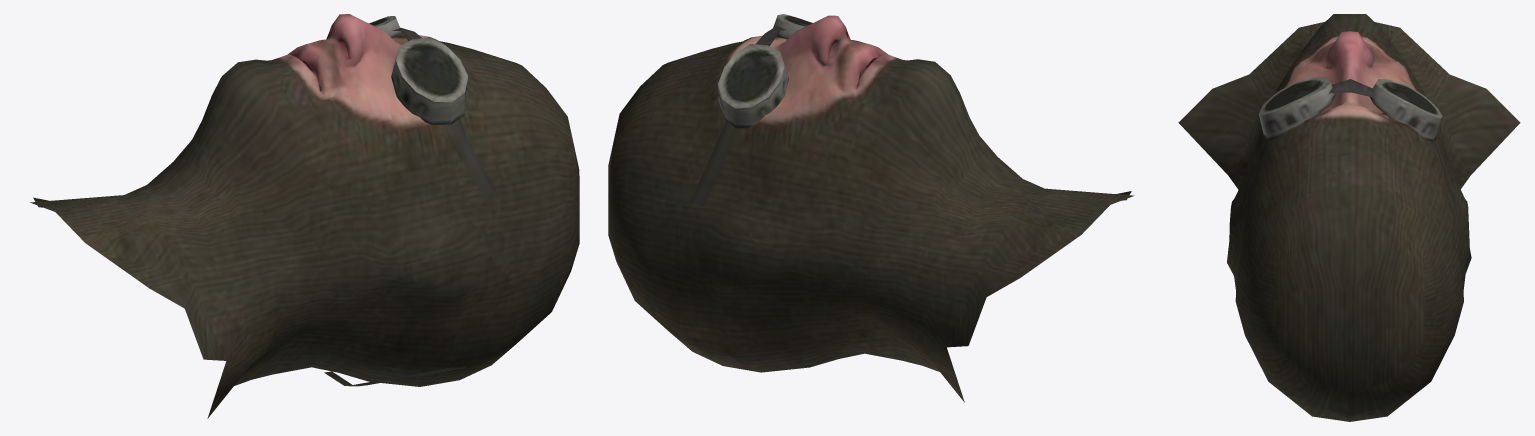
The model's file is head_german_winter_jon.glb.
The picture shows the model from 3 angles, left to right: view 1: azimuth 30°, elevation 25°; view 2: azimuth 150°, elevation 25°; view 3: azimuth 270°, elevation 25°; orthographic projection. The views are drawn at different scales.
Bounding box in the file's own units: 14.52 × 10.72 × 9.4.
Materials: 1 (1 with a texture image).
